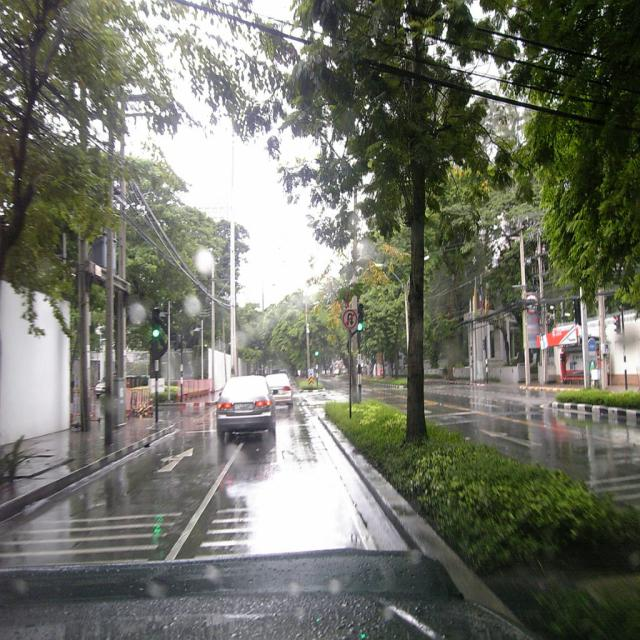car: (209, 369, 274, 442)
